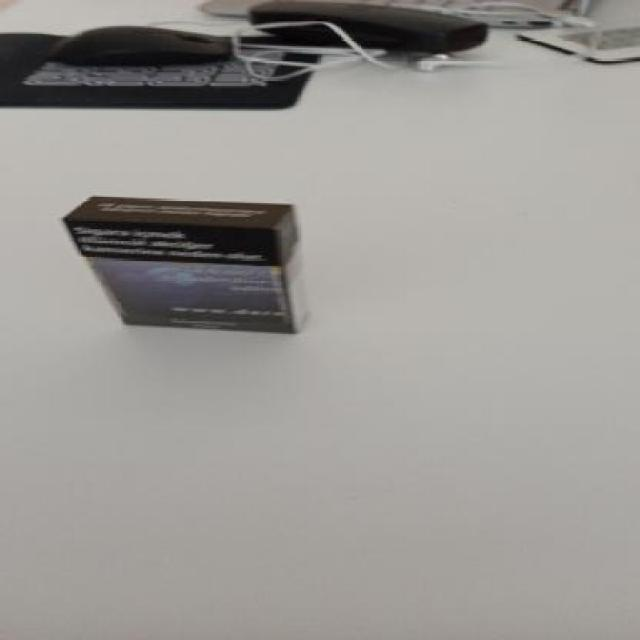-: (64, 194, 310, 332)
